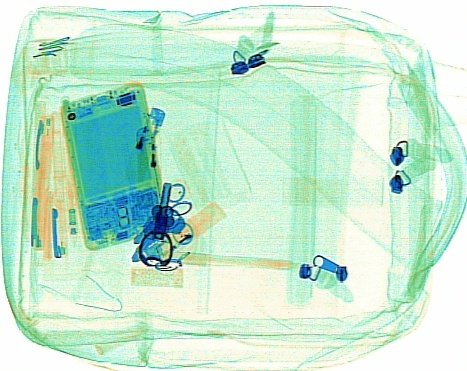lighter: (141, 199, 228, 268), (123, 104, 165, 189), (132, 125, 164, 208)
